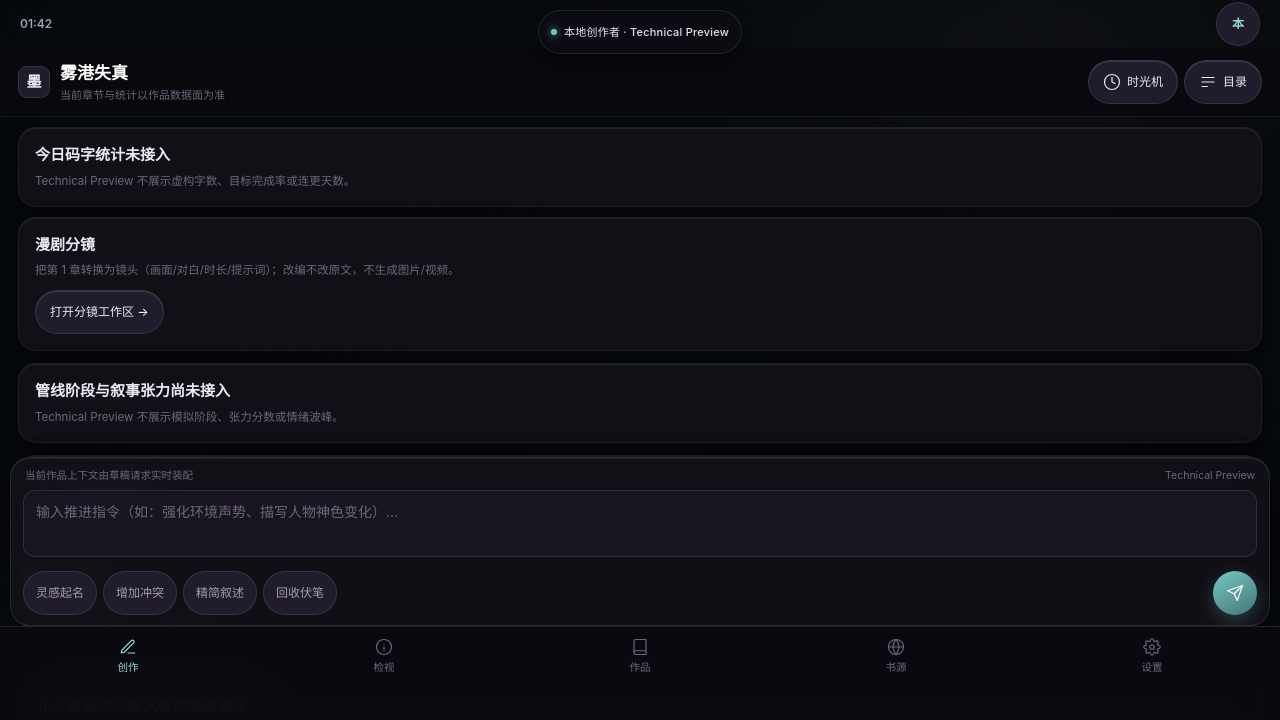
Test: MobileShell 分镜徽标三态（U05） › 无文档时徽标为「就绪」，不显示「已保存」
Click the button with test id "workbench-open-storyboard" at (99, 312), box [35,290,164,334]
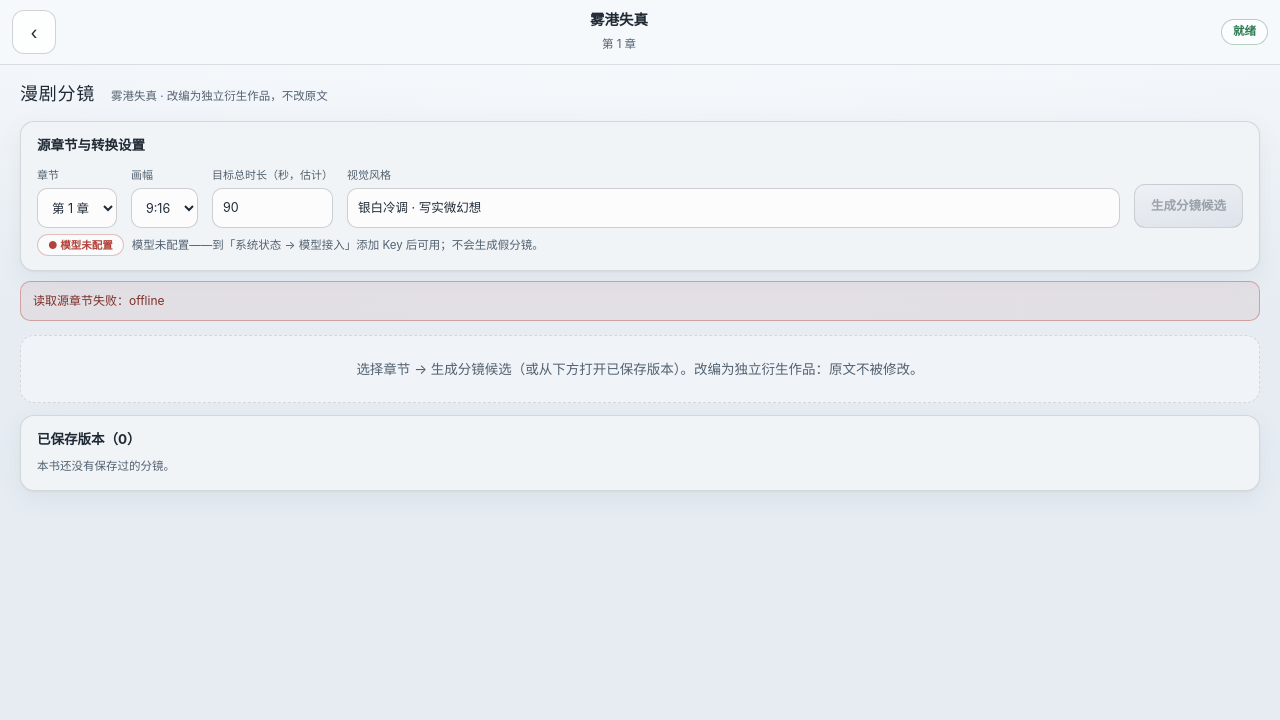
Check: the text with test id "mfp-badge" reads "就绪", box [1233,24,1256,38]
